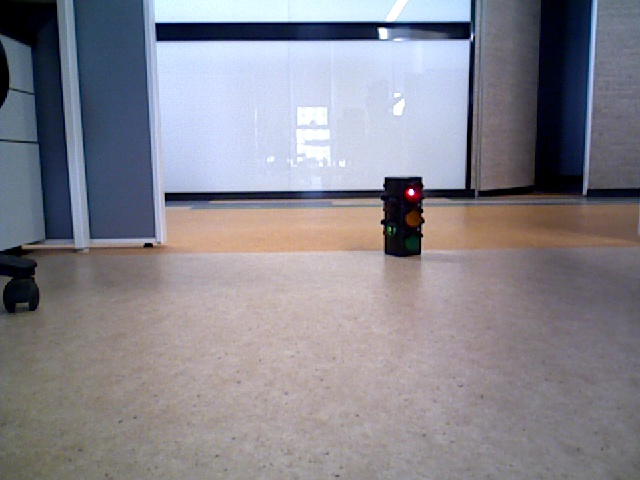red: (385, 178, 420, 254)
